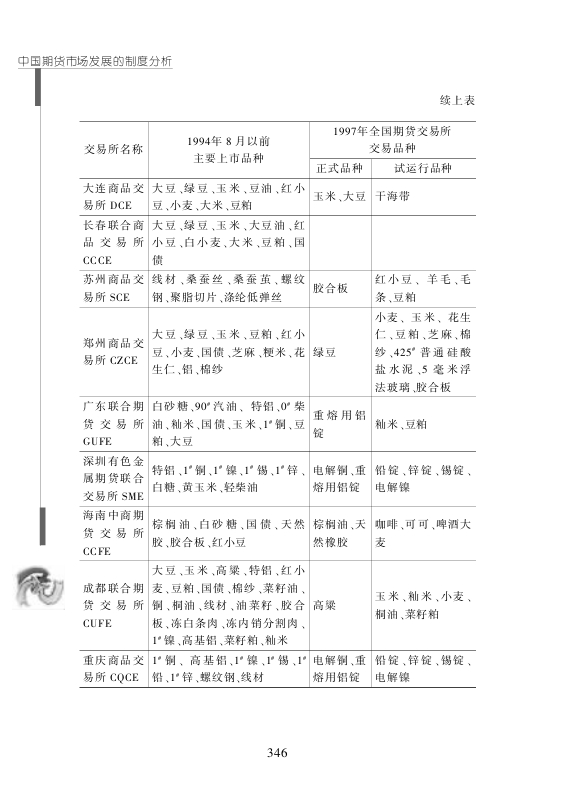table: (79, 121, 476, 688)
